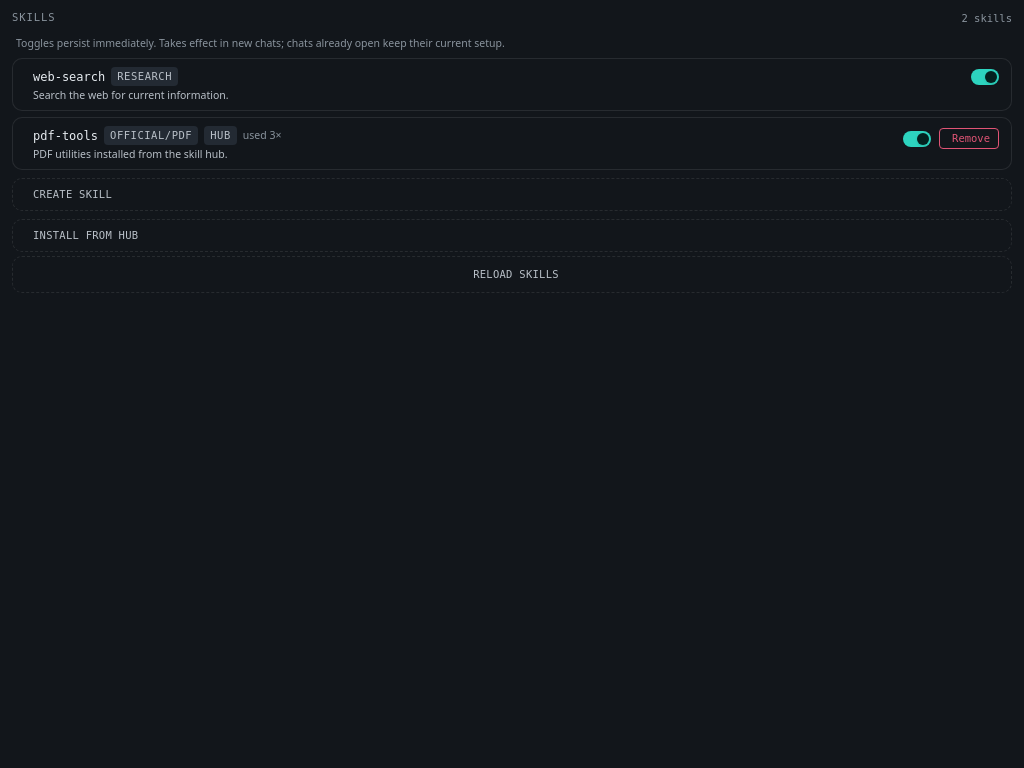
WV4-MIN a11y: SkillsPanel create-form field errors are keyed to their field › submitting the create form with an empty Name marks the field aria-invalid and wires the error via aria-describedby
Click the button "Create skill".
click(73, 194)  # box [13,179,1011,210]
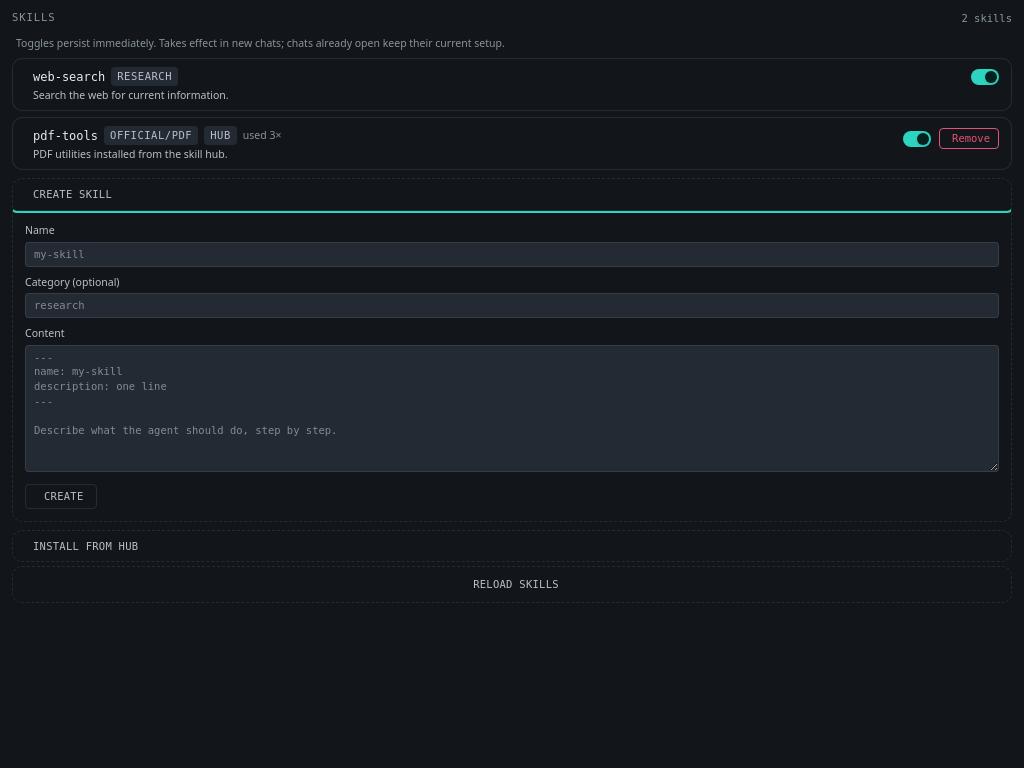
Click the button "Create".
click(61, 496)  # box [25,484,96,509]
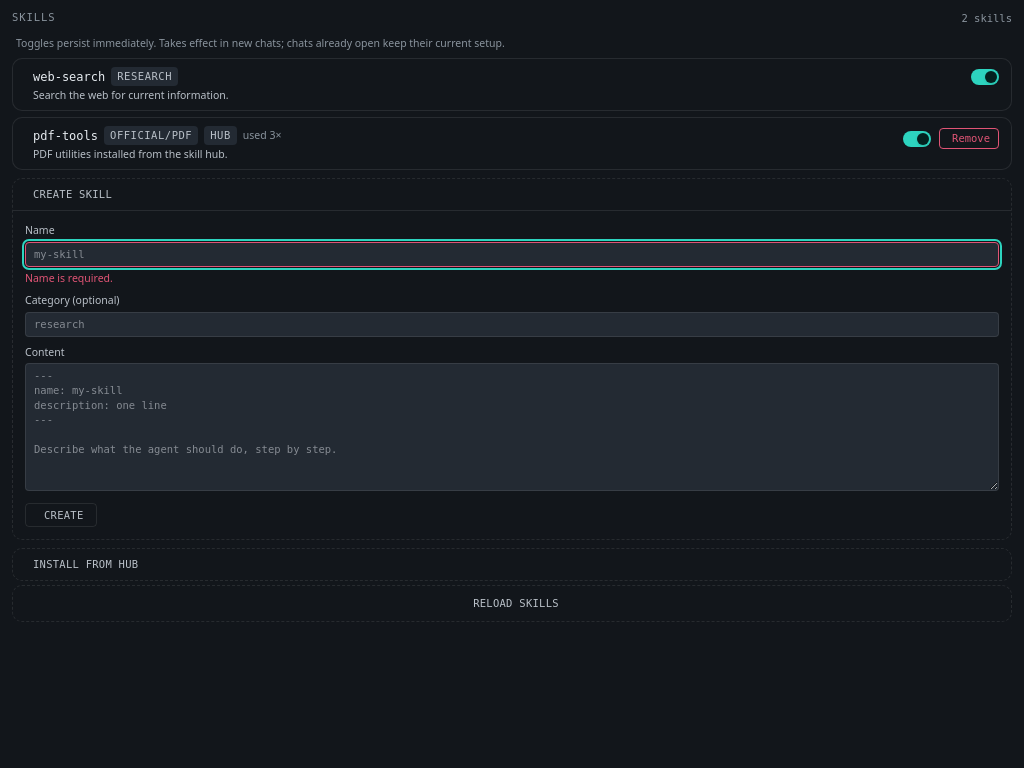
Check: the text "Name is required." is shown, box [25,270,113,284]
